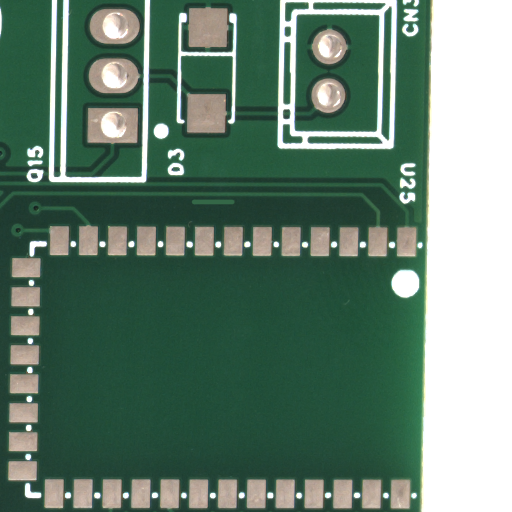Spurious_copper: (213, 202, 257, 210)
